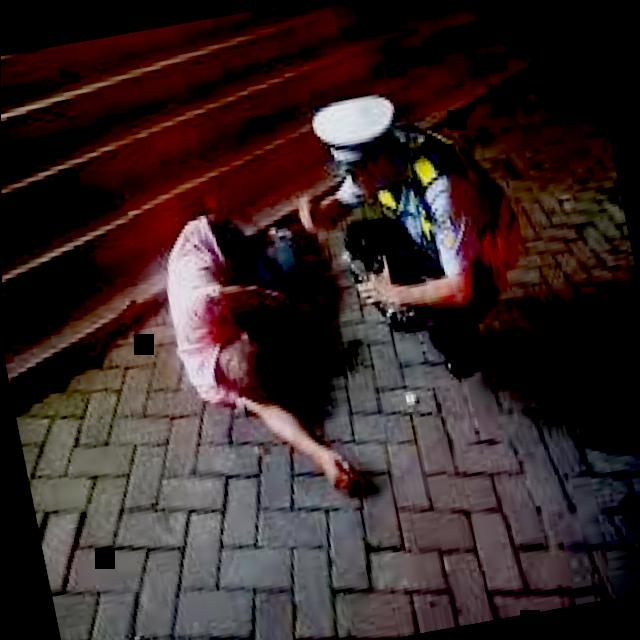Fall-Detected: (122, 156, 390, 526)
